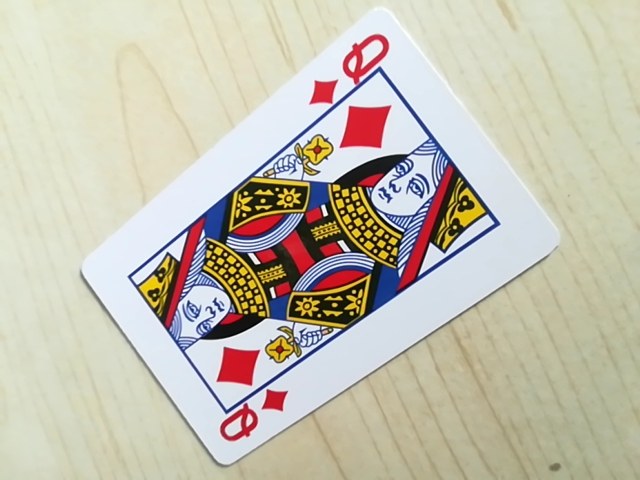fk q: (305, 25, 392, 110), (211, 384, 289, 454)
